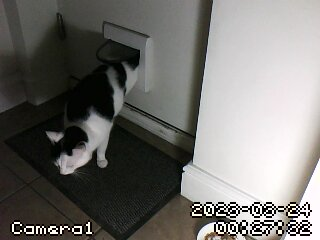bad: (37, 49, 146, 183)
